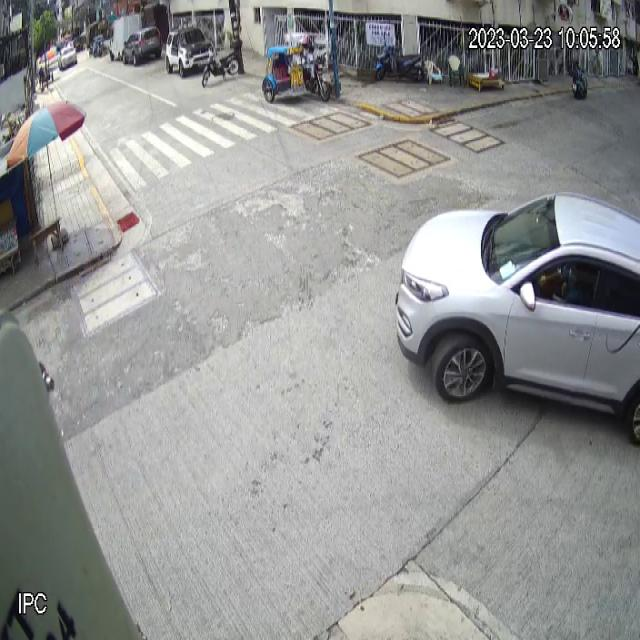Car: (393, 192, 640, 448)
Tricycle: (262, 32, 331, 104)
